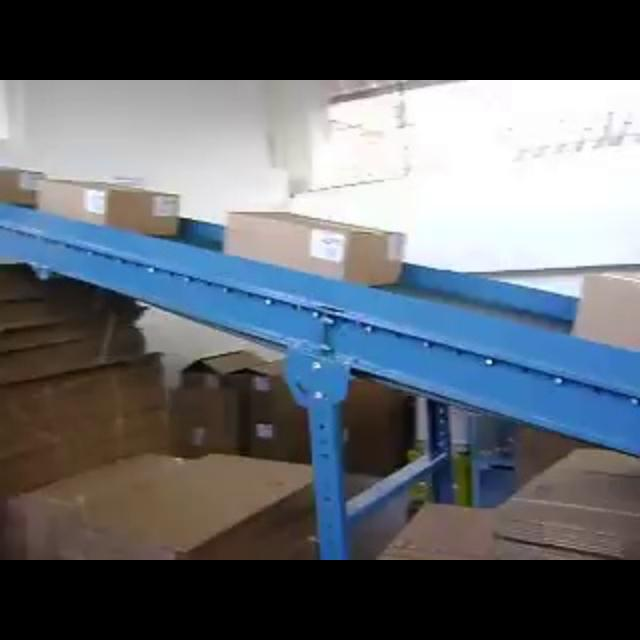Box: (220, 204, 408, 290), (38, 175, 182, 243), (564, 271, 640, 355), (0, 164, 44, 210)
